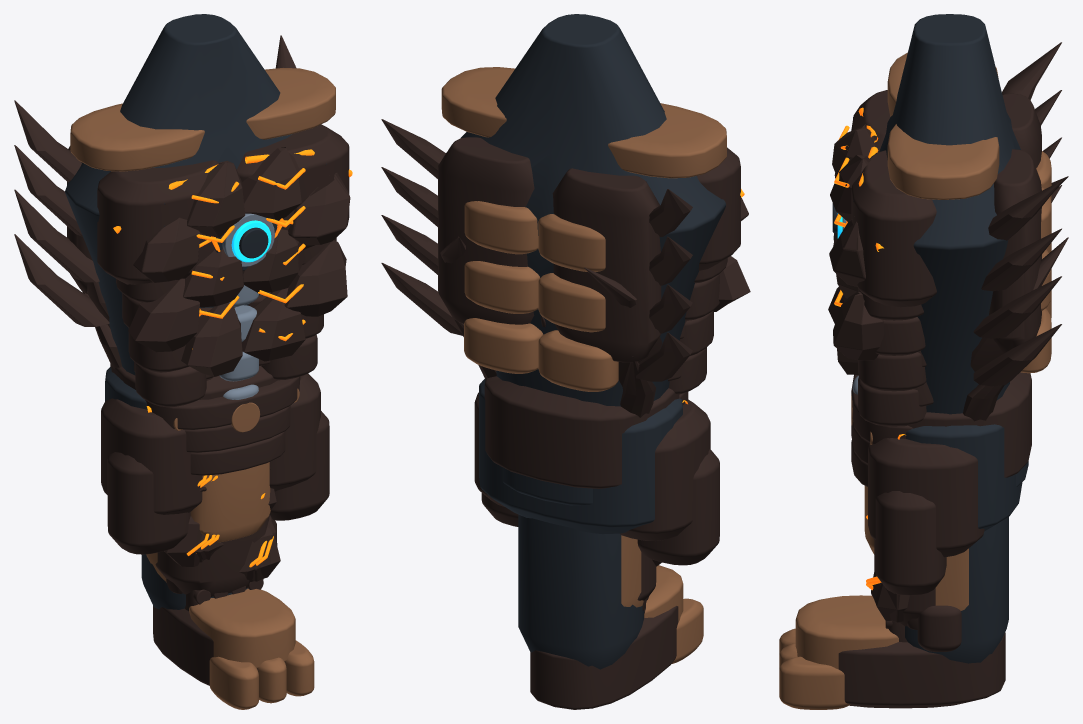
File: forge-heroes.glb
3 views of the same model, side by side, from view 1: azimuth 30°, elevation 25°; view 2: azimuth 150°, elevation 25°; view 3: azimuth 270°, elevation 25° (orthographic). The views are drawn at different scales.
Visible parts, largest first — view 1: cinder_torso, cinder_pelvis, cinder_shin, cinder_arm, cinder_thigh, ion_torso, cinder_forearm; view 2: cinder_torso, cinder_pelvis, cinder_thigh, cinder_arm, cinder_shin, cinder_head; view 3: cinder_torso, cinder_pelvis, cinder_shin, cinder_thigh, cinder_arm, cinder_forearm, cinder_head.
Part boxes in pixels (box(x1,y1,x2,y2)): cinder_torso: box(14, 14, 352, 407); cinder_pelvis: box(101, 366, 329, 554); cinder_shin: box(153, 475, 314, 709); cinder_arm: box(82, 292, 300, 578); cinder_thigh: box(141, 475, 276, 609); ion_torso: box(164, 163, 326, 399); cinder_forearm: box(164, 475, 277, 611); cinder_torso: box(381, 14, 750, 406); cinder_pelvis: box(474, 379, 719, 565); cinder_thigh: box(518, 514, 656, 669); cinder_arm: box(449, 311, 688, 505); cinder_shin: box(530, 565, 703, 709); cinder_head: box(440, 236, 662, 386); cinder_torso: box(828, 14, 1061, 426); cinder_pelvis: box(864, 424, 1022, 595); cinder_shin: box(779, 576, 1005, 709); cinder_thigh: box(866, 515, 1008, 663); cinder_arm: box(851, 372, 1031, 620); cinder_forearm: box(866, 579, 961, 651); cinder_head: box(970, 176, 1068, 371).
Size of the model in its own units: 0.5099 by 1.11 by 0.4409.
